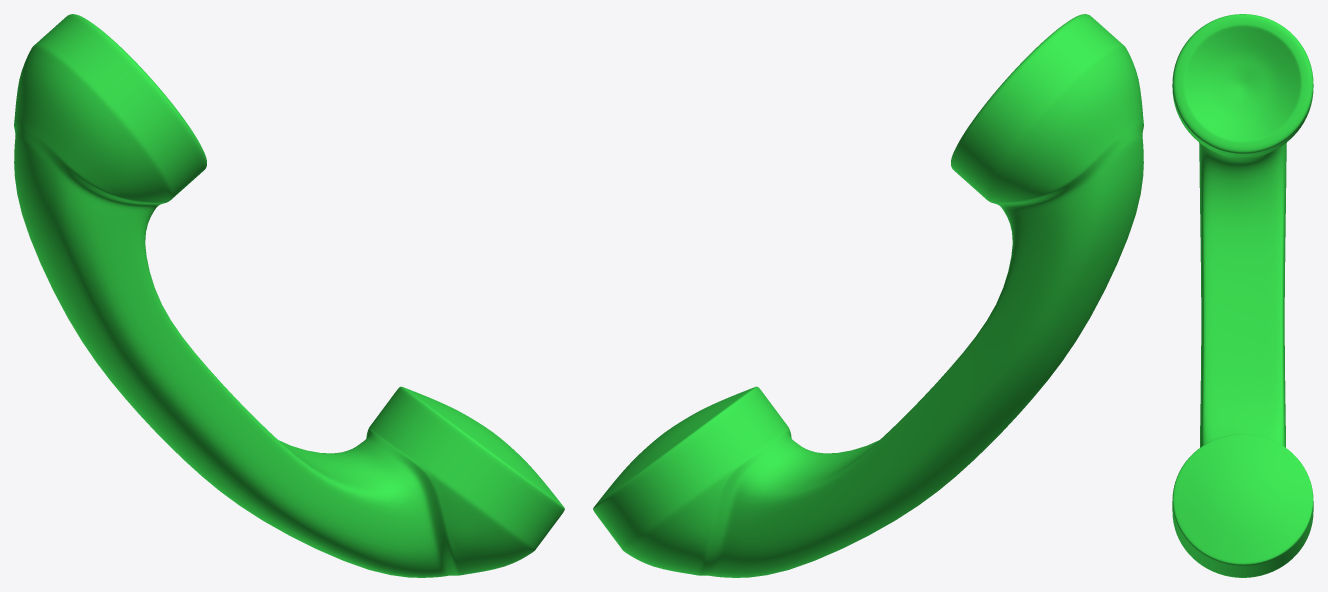
Rendered from phone.glb.
3 views of the same model, side by side, from view 1: azimuth 30°, elevation 25°; view 2: azimuth 150°, elevation 25°; view 3: azimuth 270°, elevation 25° (orthographic). The views are drawn at different scales.
Parts seen in each view (by area): view 1: phone; view 2: phone; view 3: phone.
Boxes of the visible parts, <box> form: phone: <box>14,14,564,577</box>; phone: <box>593,14,1143,577</box>; phone: <box>1172,14,1313,577</box>.
Size of the model in its own units: 24.51 by 28.33 by 8.41.
